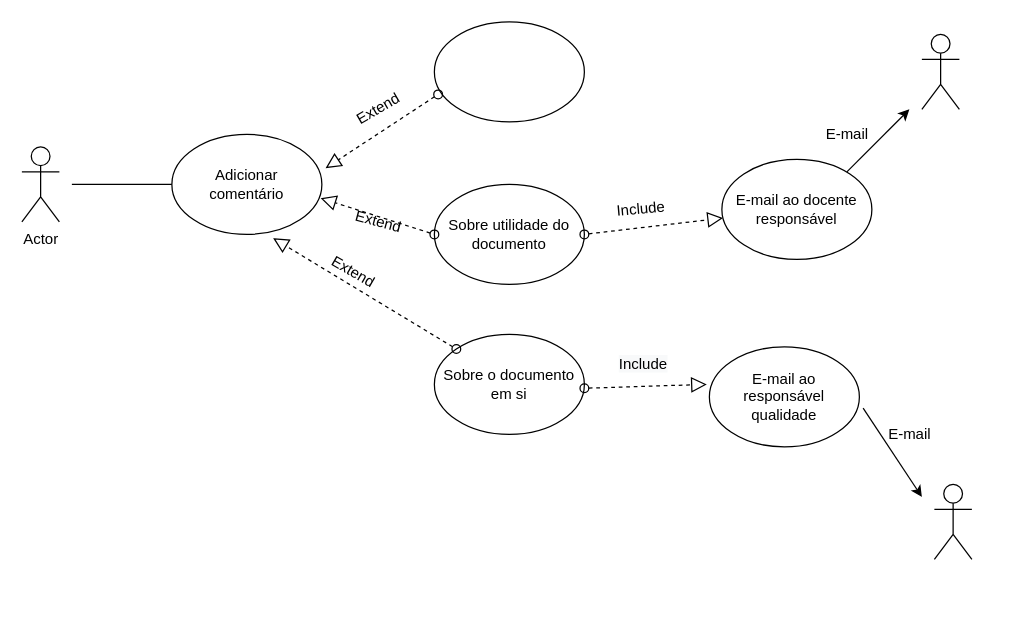
This 1018x644 diagram has some shape labels left out. Each missing label, with the centre of its shape:
"Carácter geral" belongs at point (508, 71).
"Docente" belongs at point (940, 71).
"Responsável qualidade biblioteca" belongs at point (952, 521).
